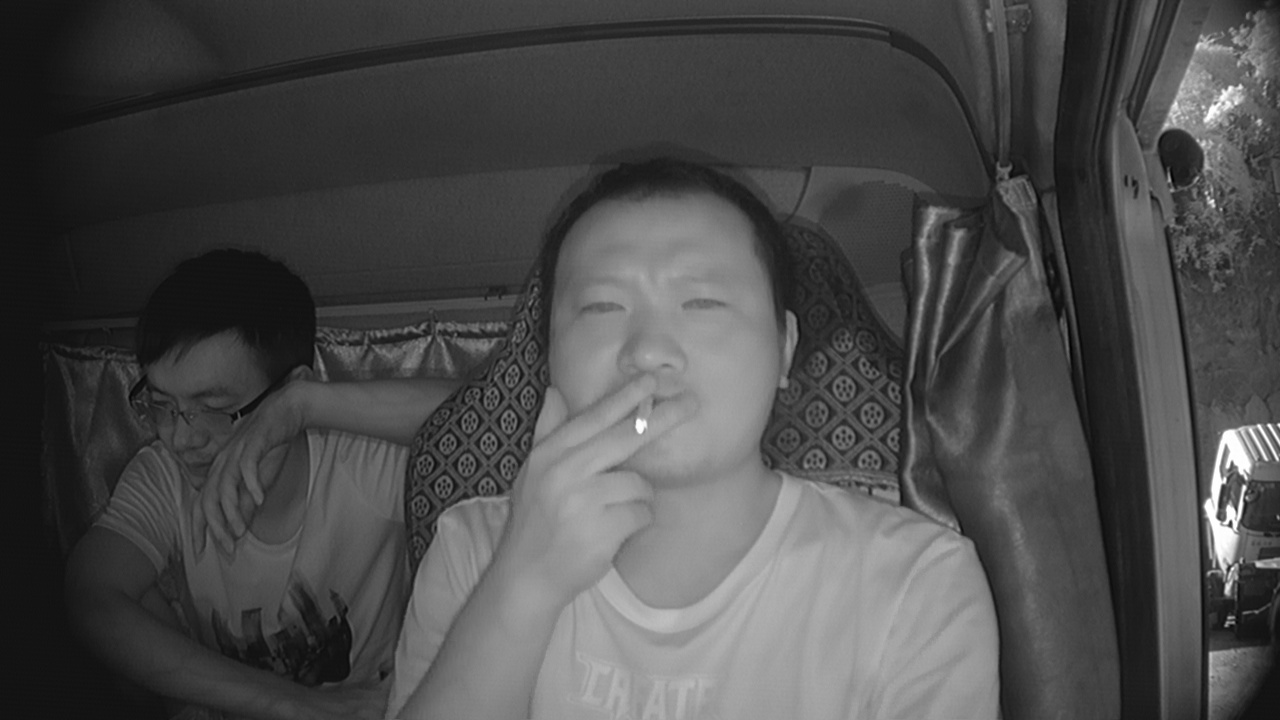hand: (537, 375, 690, 557)
